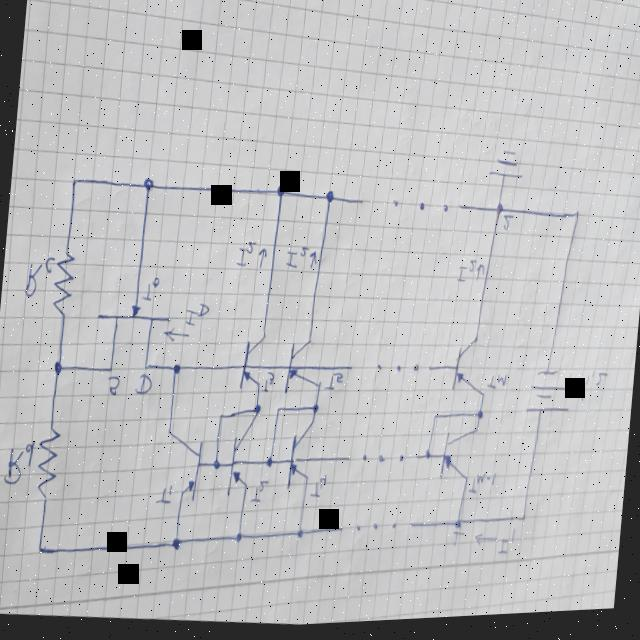ground: (486, 151, 526, 190)
junction: (141, 176, 155, 196), (51, 359, 63, 379), (210, 458, 222, 475), (275, 185, 286, 203), (324, 191, 334, 210), (171, 363, 182, 379), (170, 538, 181, 554), (494, 207, 504, 221), (422, 453, 432, 467), (35, 543, 44, 558), (252, 406, 262, 419), (295, 530, 304, 544), (69, 176, 78, 190), (264, 458, 273, 472), (572, 214, 581, 227), (234, 532, 242, 546), (518, 517, 526, 530), (216, 412, 224, 425), (475, 414, 483, 426), (310, 406, 318, 418), (452, 523, 460, 535), (472, 431, 480, 442), (430, 418, 438, 427), (274, 409, 281, 418)
resistor: (32, 421, 62, 504), (48, 247, 76, 322)
source: (522, 365, 575, 426)
text: (2, 438, 36, 490), (573, 375, 610, 415), (23, 257, 52, 300), (466, 471, 498, 503), (182, 303, 210, 334), (236, 238, 258, 276), (496, 529, 518, 564), (454, 260, 478, 291), (284, 246, 310, 273), (249, 480, 270, 512), (141, 277, 161, 307), (154, 485, 173, 511), (326, 373, 346, 397), (310, 476, 327, 502), (486, 376, 507, 397), (135, 375, 153, 398), (261, 372, 275, 398), (106, 375, 120, 398), (501, 218, 514, 239), (448, 538, 462, 553)
transistor: (90, 292, 173, 387), (160, 428, 208, 508), (280, 339, 328, 405), (446, 336, 491, 406), (280, 422, 316, 496), (218, 431, 253, 506), (434, 431, 476, 492), (232, 336, 266, 398)
